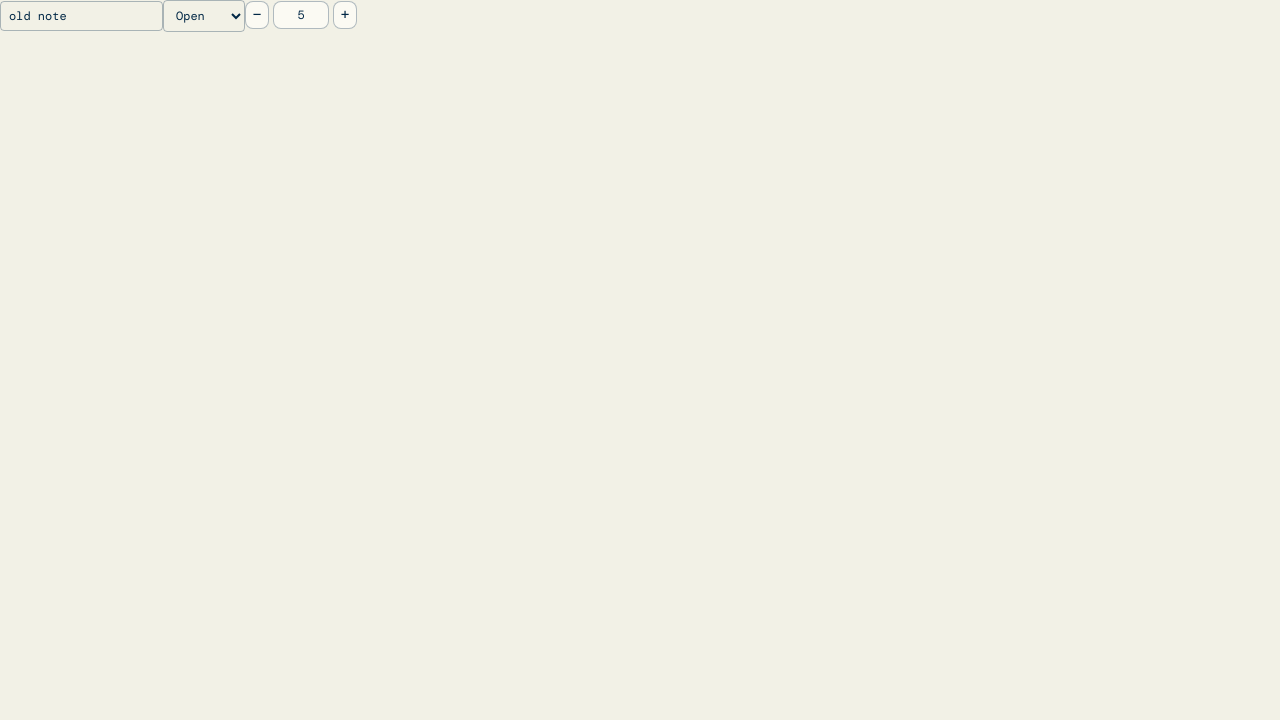
Test: staged edits › Review lists the before / after and lets one be undone; Discard puts everything back without saving
Replace the text in the 1st field with placeholder "note" with "new note" at {"x": 82, "y": 16}, box [0,1,163,31]
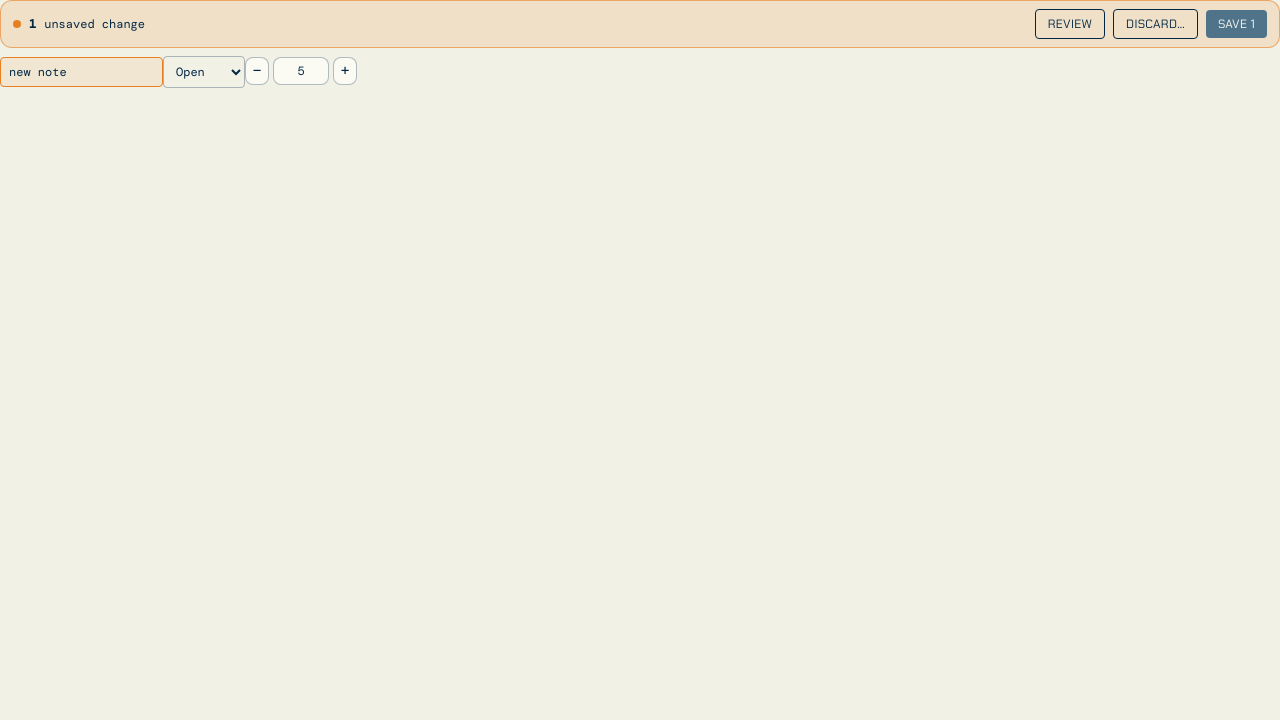
Select "Closed" in the dropdown at {"x": 204, "y": 72}, box [163,56,245,88]
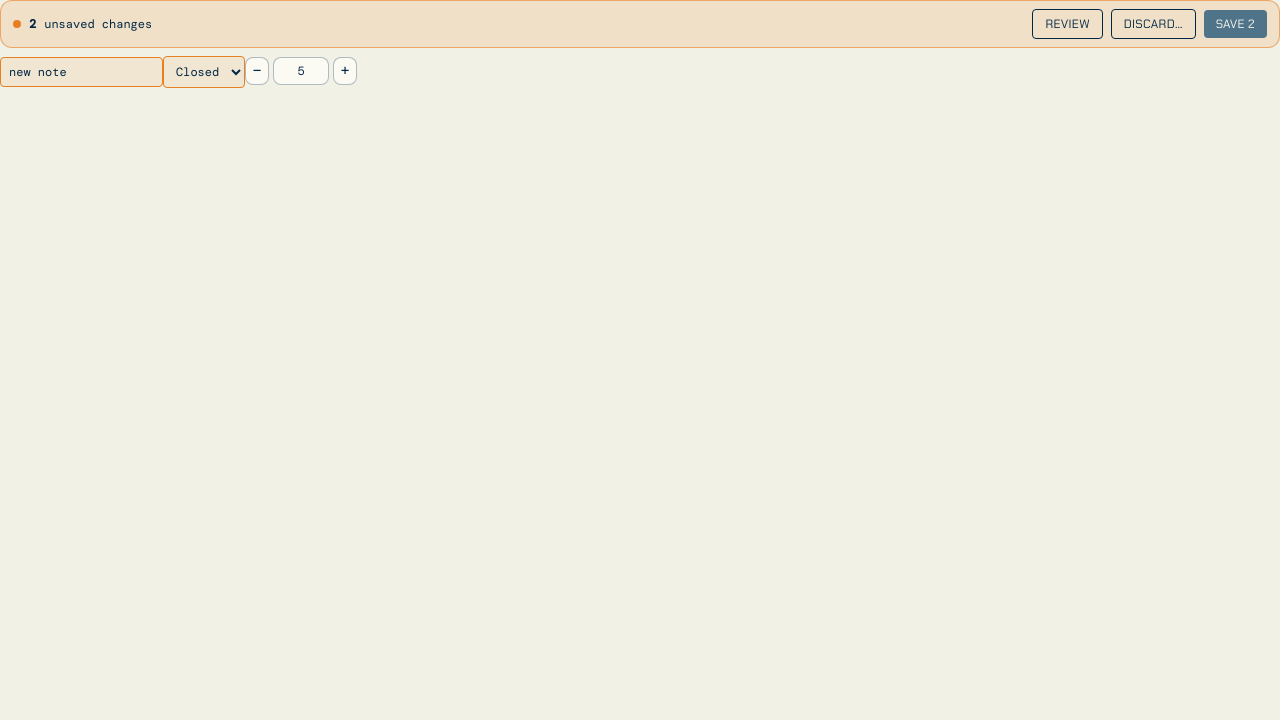
Click the button "Review" at {"x": 1068, "y": 24}, box [1032,9,1103,39]
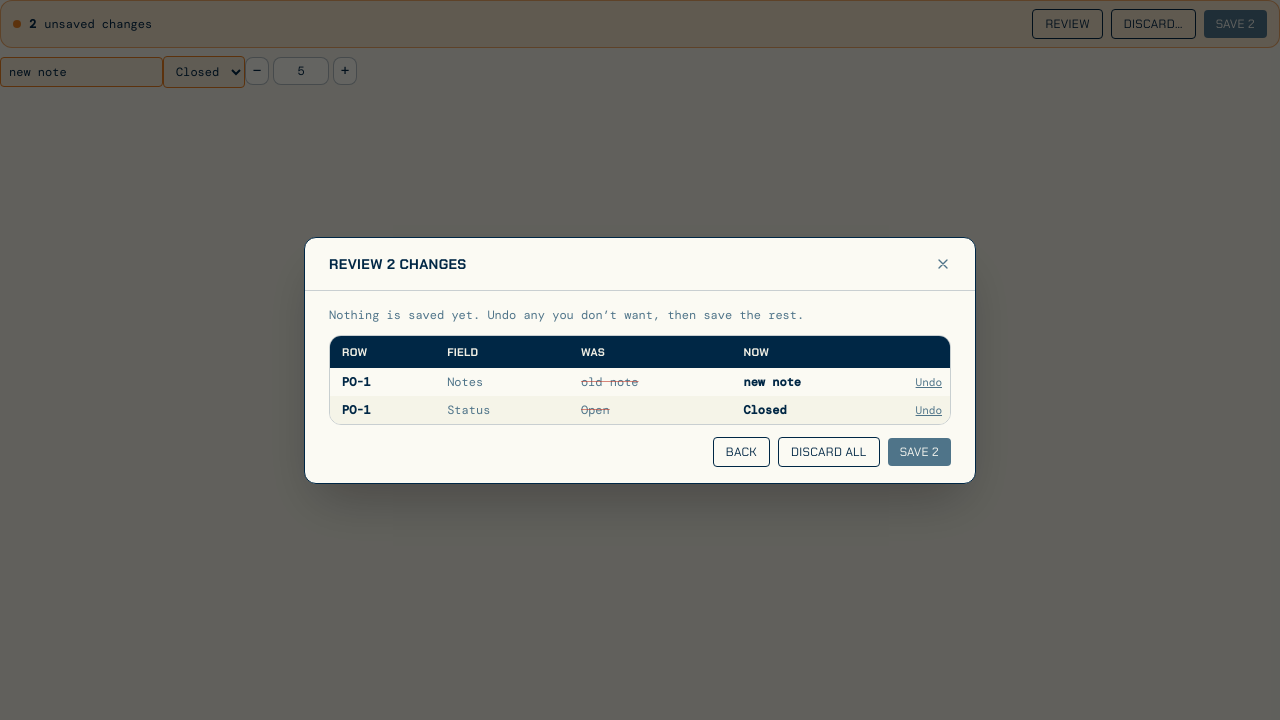
Check: the text "old note" is shown, box [569,368,732,396]
Check: the text "new note" is shown, box [732,368,894,396]
Click the button "Undo" in the row of "Notes" at {"x": 929, "y": 382}, box [916,374,942,390]
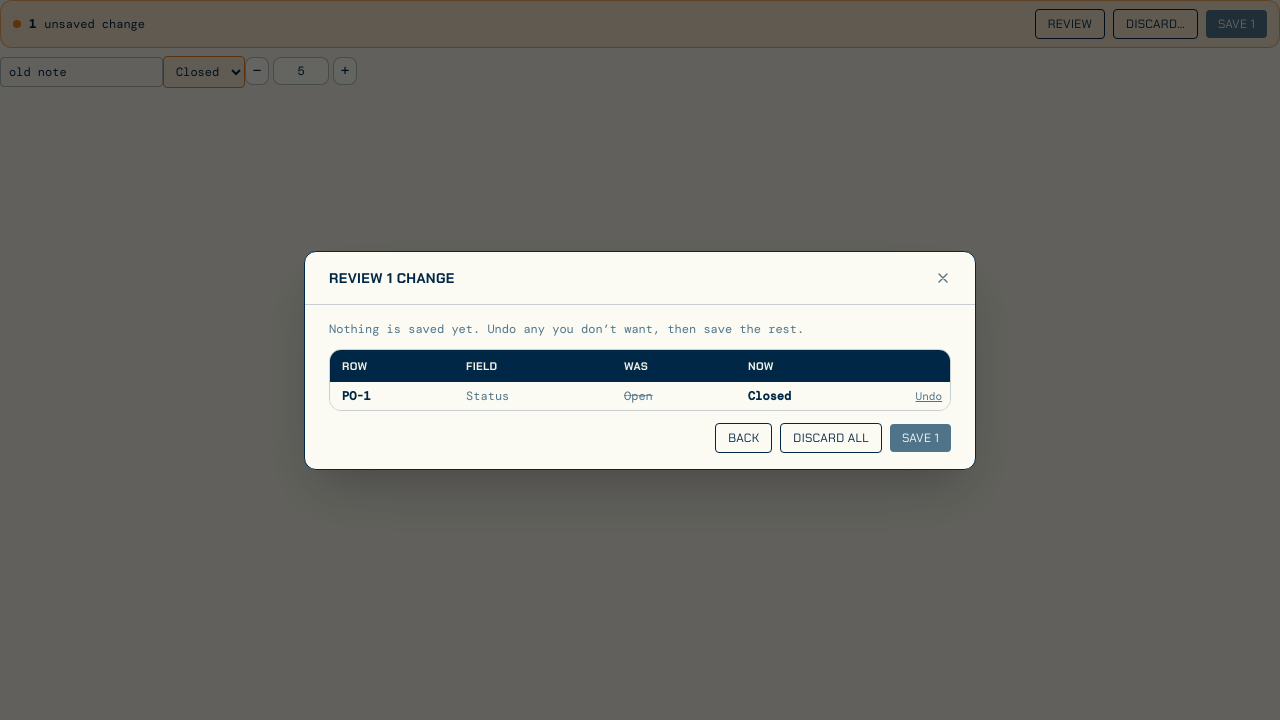
Check: the text "1" is shown, box [29,16,36,32]
Click the button "Discard all" at {"x": 831, "y": 438}, box [780,422,882,452]
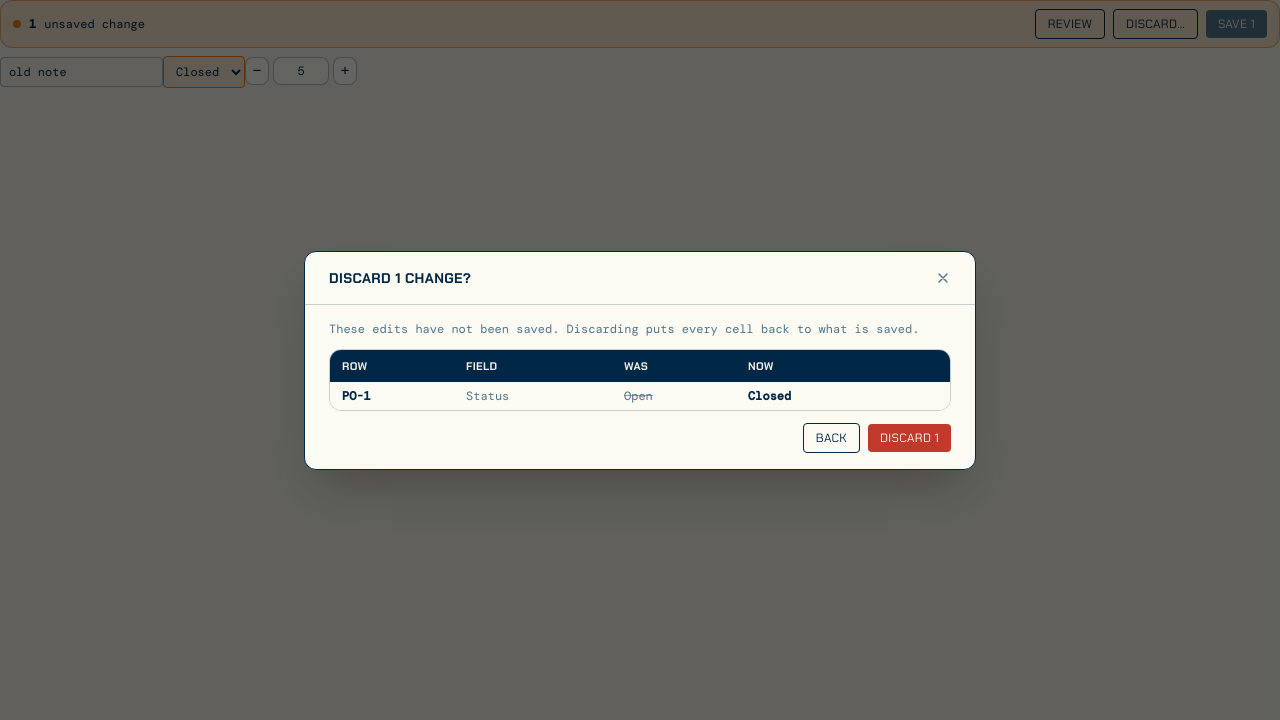
Click the button "Discard 1" at {"x": 910, "y": 438}, box [868,424,951,452]
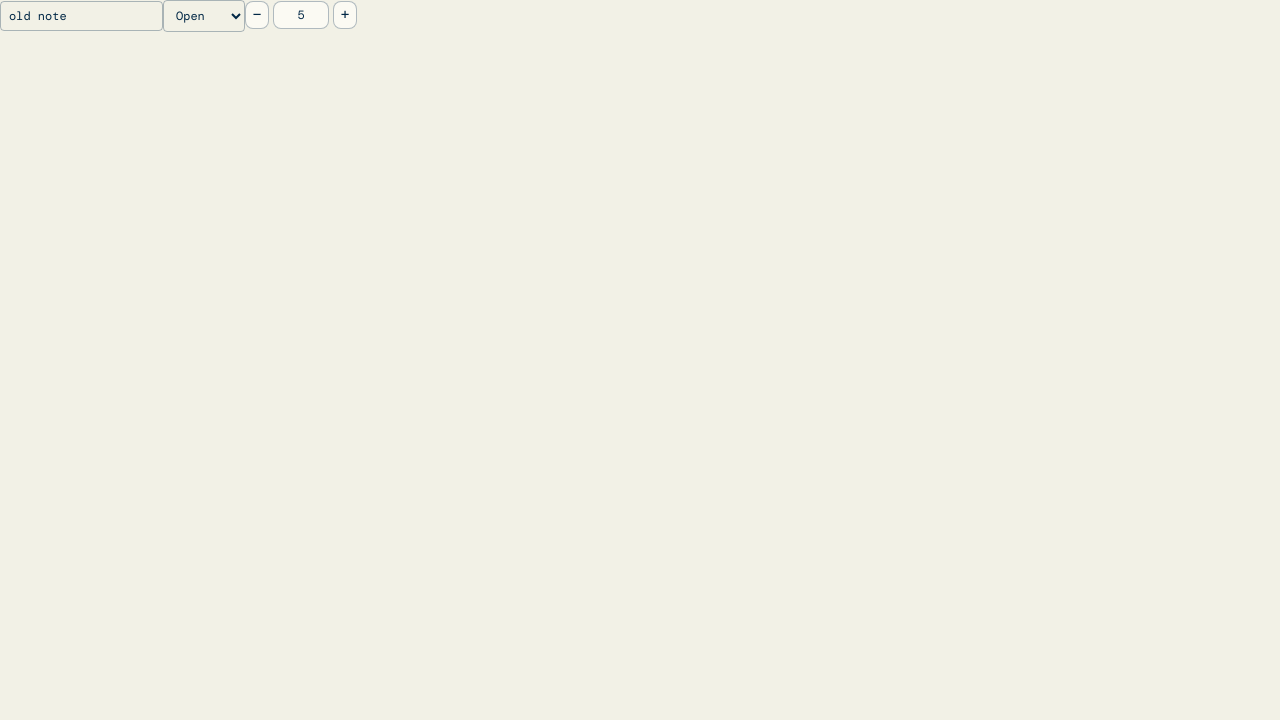
Check: the text "unsaved change" is gone
